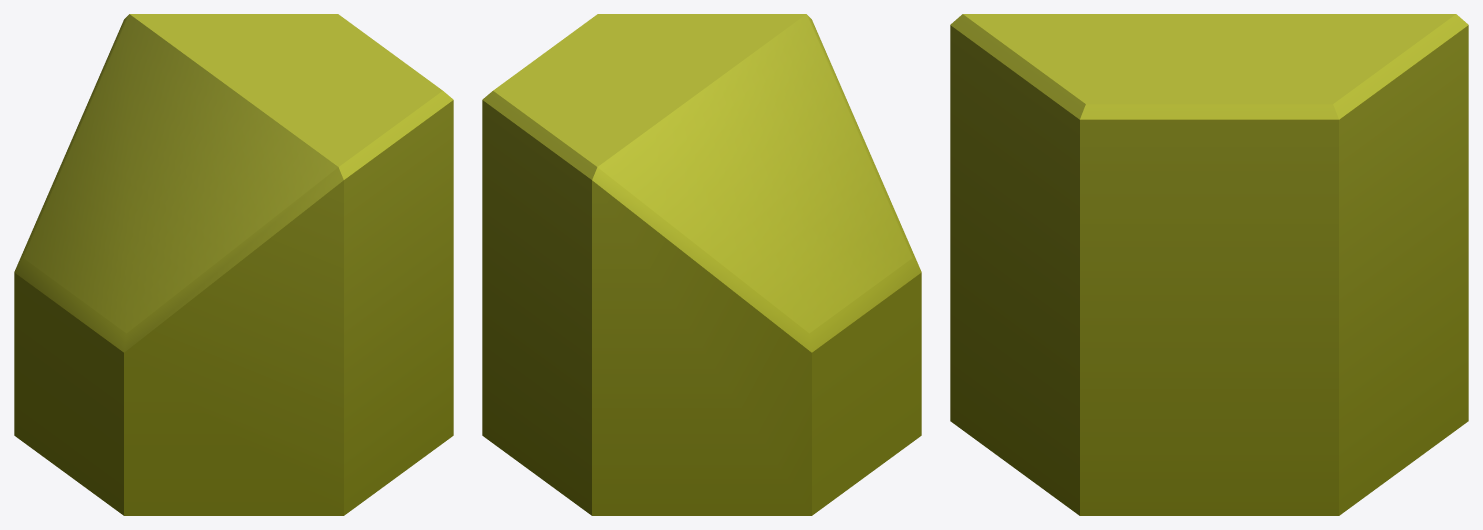
Rendered from hex_grass_sloped_high.glb.
3 views of the same model, side by side, from view 1: azimuth 30°, elevation 25°; view 2: azimuth 150°, elevation 25°; view 3: azimuth 270°, elevation 25° (orthographic). The views are drawn at different scales.
Visible parts, largest first — view 1: hex_grass_sloped_high; view 2: hex_grass_sloped_high; view 3: hex_grass_sloped_high.
Boxes of the visible parts, x1=… form: hex_grass_sloped_high: x1=14, y1=14, x2=453, y2=515; hex_grass_sloped_high: x1=482, y1=14, x2=921, y2=515; hex_grass_sloped_high: x1=950, y1=14, x2=1468, y2=515.
Size of the model in its own units: 2 by 2 by 2.31.
1 material, 1 textured.
